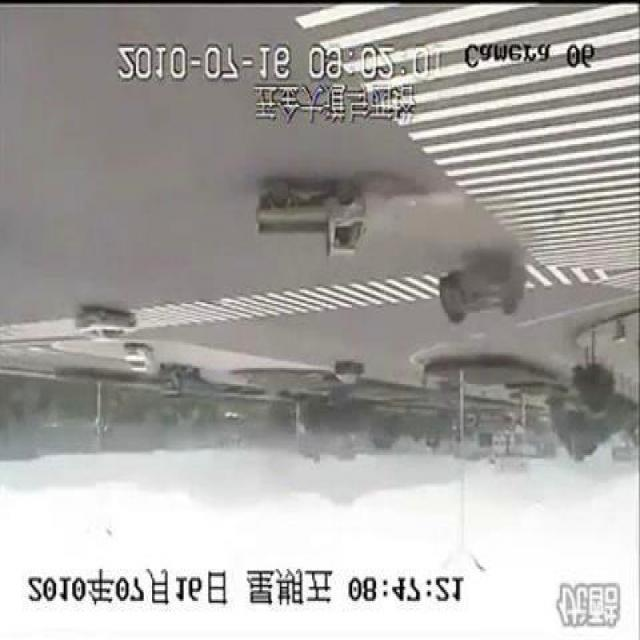severe: (434, 252, 530, 330)
